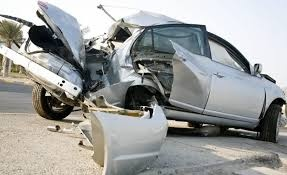Smashed: (29, 20, 211, 110)
